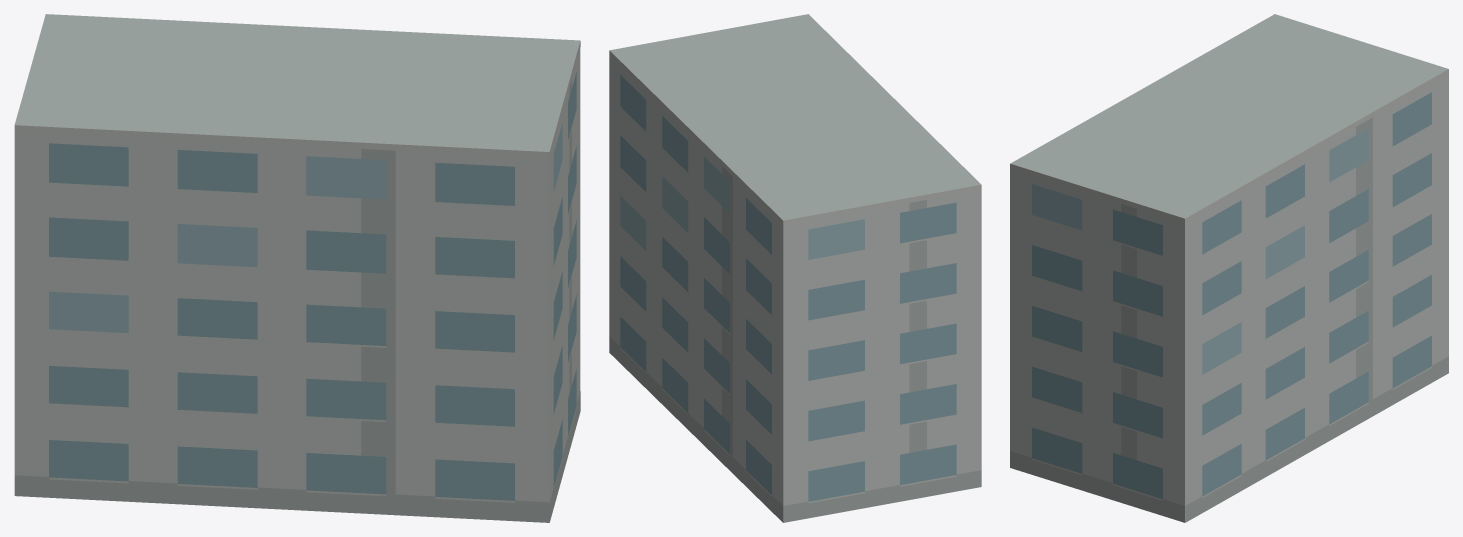
File: survey-upis-32628389.glb
The picture shows the model from 3 angles, left to right: view 1: azimuth 30°, elevation 25°; view 2: azimuth 150°, elevation 25°; view 3: azimuth 270°, elevation 25°; orthographic projection. The views are drawn at different scales.
Visible parts, largest first — view 1: survey-upis-32628389.tmp; view 2: survey-upis-32628389.tmp; view 3: survey-upis-32628389.tmp.
Boxes of the visible parts, x1,y1,x2,y2 form: survey-upis-32628389.tmp: (14, 14, 580, 522); survey-upis-32628389.tmp: (609, 14, 981, 522); survey-upis-32628389.tmp: (1010, 14, 1448, 522).
Bounding box in the file's own units: 20.5 × 14.2 × 18.57.
